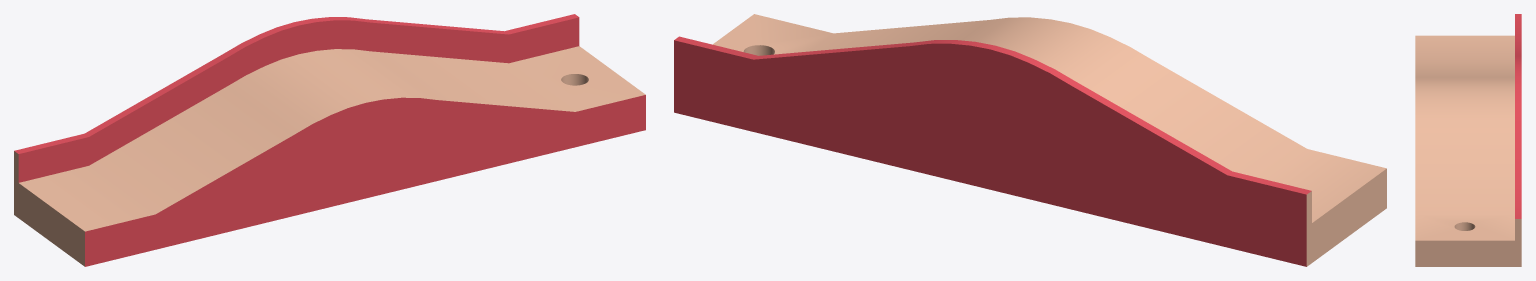
The model's file is Ground_02.fbx.
3 views of the same model, side by side, from view 1: azimuth 30°, elevation 25°; view 2: azimuth 150°, elevation 25°; view 3: azimuth 270°, elevation 25° (orthographic). The views are drawn at different scales.
Visible parts, largest first — view 1: Ground_02; view 2: Ground_02; view 3: Ground_02.
Part boxes in pixels (x1,y1,x2,y2): Ground_02: (14, 14, 645, 266); Ground_02: (674, 14, 1386, 266); Ground_02: (1415, 14, 1521, 266).
Size of the model in its own units: 592 by 126 by 130.
